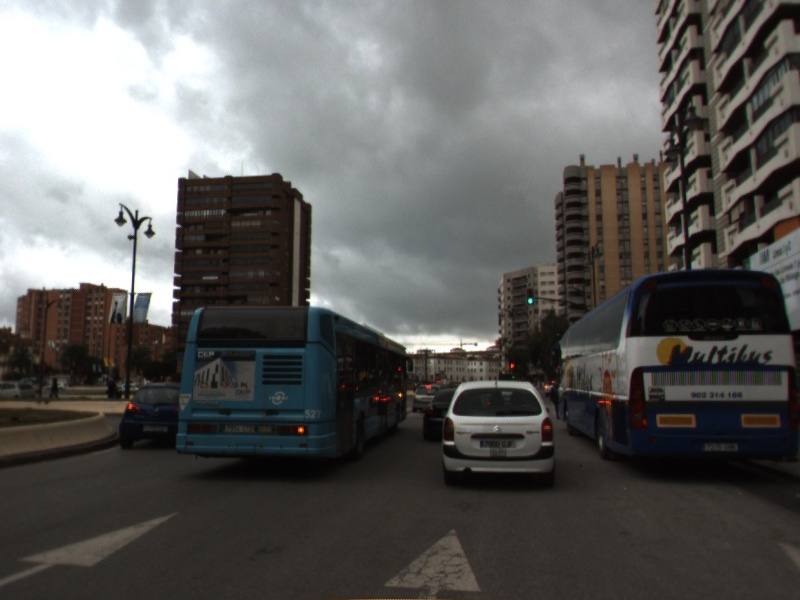STRAIGHT: (1, 506, 187, 593), (380, 524, 488, 600)
